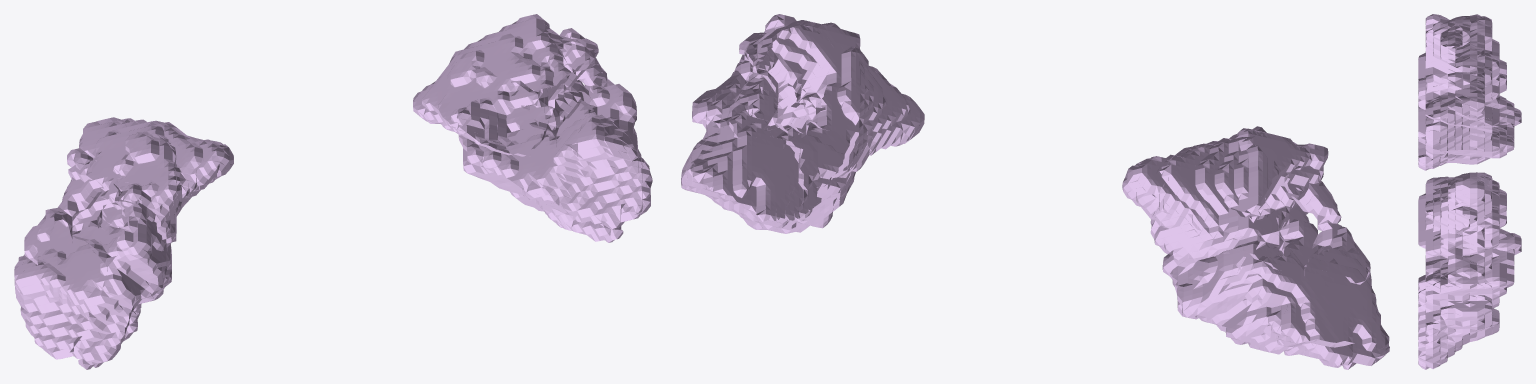
The model's file is VFB_00102152.glb.
3 views of the same model, side by side, from view 1: azimuth 30°, elevation 25°; view 2: azimuth 150°, elevation 25°; view 3: azimuth 270°, elevation 25° (orthographic). The views are drawn at different scales.
Parts seen in each view (by area): view 1: VFB_00102152; view 2: VFB_00102152; view 3: VFB_00102152.
Boxes of the visible parts, left/top/right/bottom form: VFB_00102152: left=14, top=14, right=652, bottom=369; VFB_00102152: left=681, top=14, right=1389, bottom=369; VFB_00102152: left=1418, top=14, right=1521, bottom=369.
Bounding box in the file's own units: 0.3032 × 0.0997 × 0.0549.
